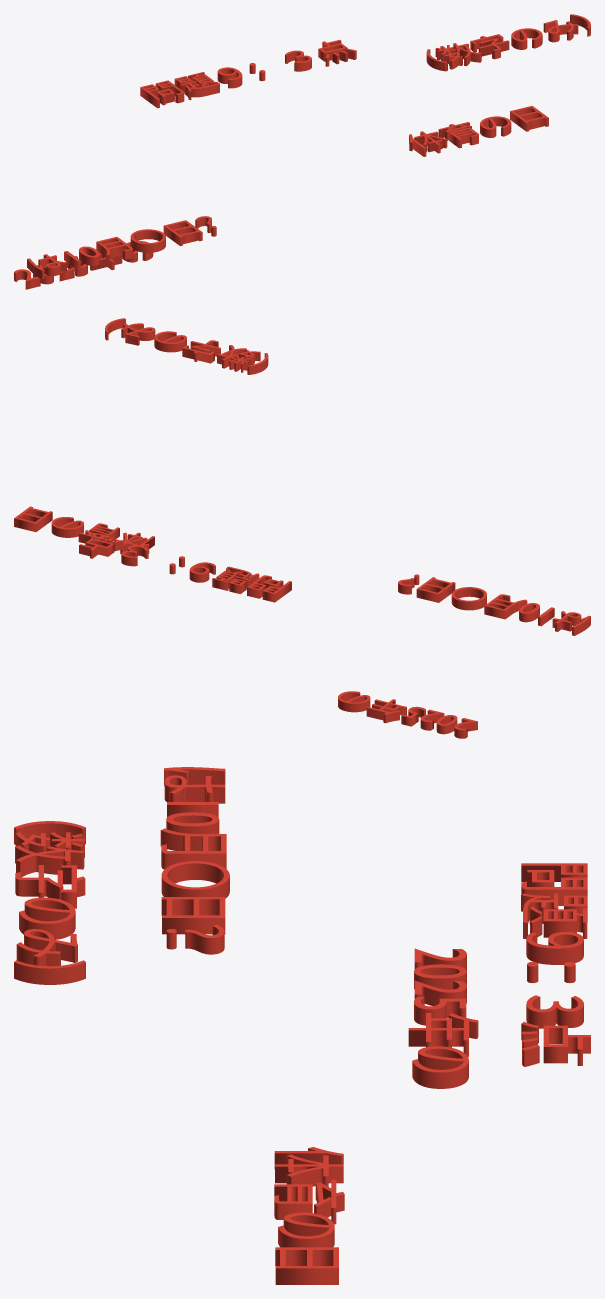
3 views of the same model, one above another, from view 1: azimuth 30°, elevation 25°; view 2: azimuth 150°, elevation 25°; view 3: azimuth 270°, elevation 25° (orthographic). The views are drawn at different scales.
Visible parts, largest first — view 1: テキスト.002, テキスト.004, テキスト.003, テキスト.005, テキスト.001; view 2: テキスト.002, テキスト.004, テキスト.003, テキスト.001, テキスト.005; view 3: テキスト.002, テキスト.004, テキスト.003, テキスト.005, テキスト.001.
Boxes of the visible parts, box(x1,y1,x2,y2) form: テキスト.002: box(27, 216, 216, 279); テキスト.004: box(140, 39, 356, 108); テキスト.003: box(426, 14, 590, 71); テキスト.005: box(409, 105, 548, 156); テキスト.001: box(14, 241, 153, 289); テキスト.002: box(398, 574, 590, 635); テキスト.004: box(79, 533, 291, 602); テキスト.003: box(105, 318, 268, 374); テキスト.001: box(338, 691, 477, 738); テキスト.005: box(14, 506, 154, 555); テキスト.002: box(160, 767, 229, 954); テキスト.004: box(521, 863, 590, 1066); テキスト.003: box(14, 821, 85, 984); テキスト.005: box(274, 1147, 344, 1284); テキスト.001: box(408, 948, 478, 1088).
Size of the model in its own units: 15.74 by 6.33 by 7.62.
